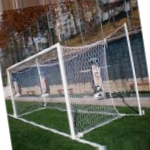goals: (5, 39, 123, 141)
